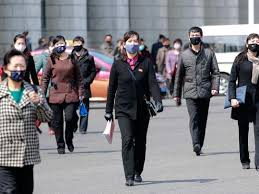mask: (5, 55, 26, 79), (125, 33, 137, 51), (13, 36, 25, 51), (189, 29, 200, 45), (249, 36, 259, 50), (55, 39, 66, 51), (72, 37, 82, 50), (163, 39, 171, 48), (104, 35, 112, 43), (174, 42, 180, 48)
